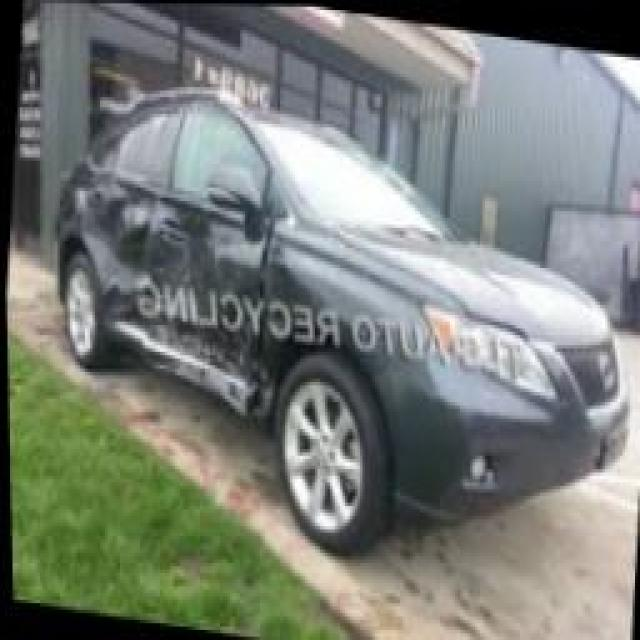Door: (141, 189, 271, 423)
